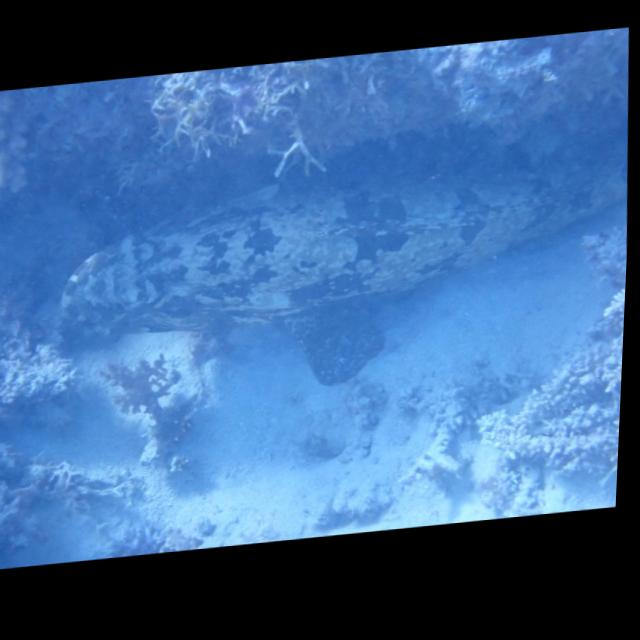Groupers: (54, 140, 632, 410)
